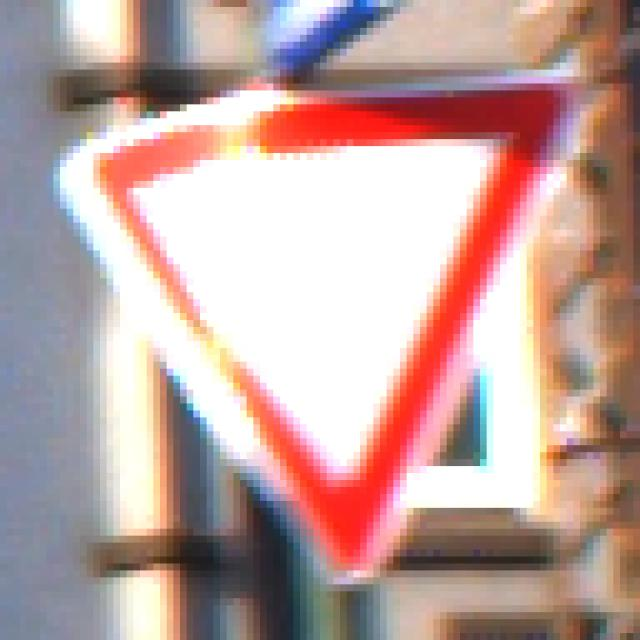Give Way: (54, 57, 588, 585)
